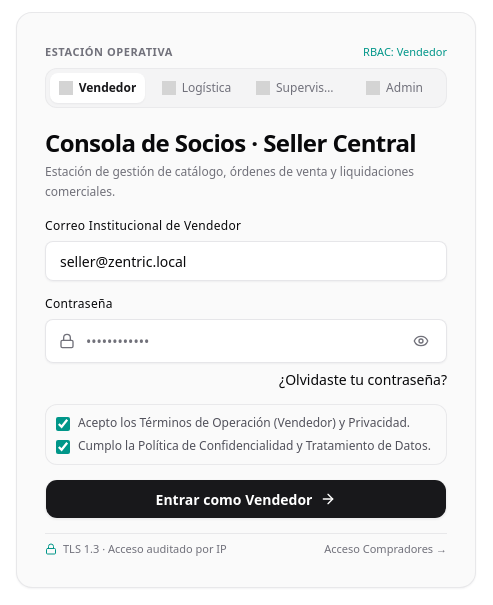
Test case: Módulo de Autenticación y Salud (W4-S01-auth-module) › CorporateLoginPage › renderiza la consola ejecutiva adaptando la estación y controles al rol seleccionado
Expected: the heading "Consola de Socios · Seller Central" is shown, x1=45 y1=128 x2=447 y2=158
Expected: the text "Estación de gestión de catálogo, órdenes de venta y liquidaciones comerciales" is shown, x1=45 y1=163 x2=414 y2=200
# Al seleccionar Logística, la estación activa cambia a su consola operativa
Step 1. Click the tab "Logística" → (196, 88), box x1=149 y1=73 x2=244 y2=103
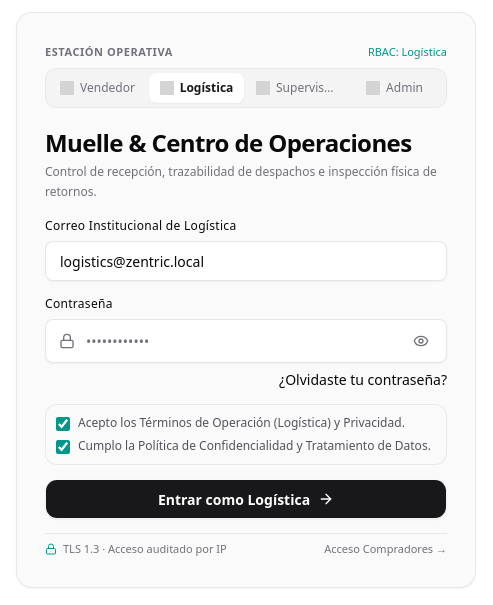
Expected: the heading "Muelle & Centro de Operaciones" is shown, x1=45 y1=128 x2=447 y2=158
Expected: the text "Control de recepción, trazabilidad de despachos e inspección física de retornos" is shown, x1=45 y1=163 x2=437 y2=200
